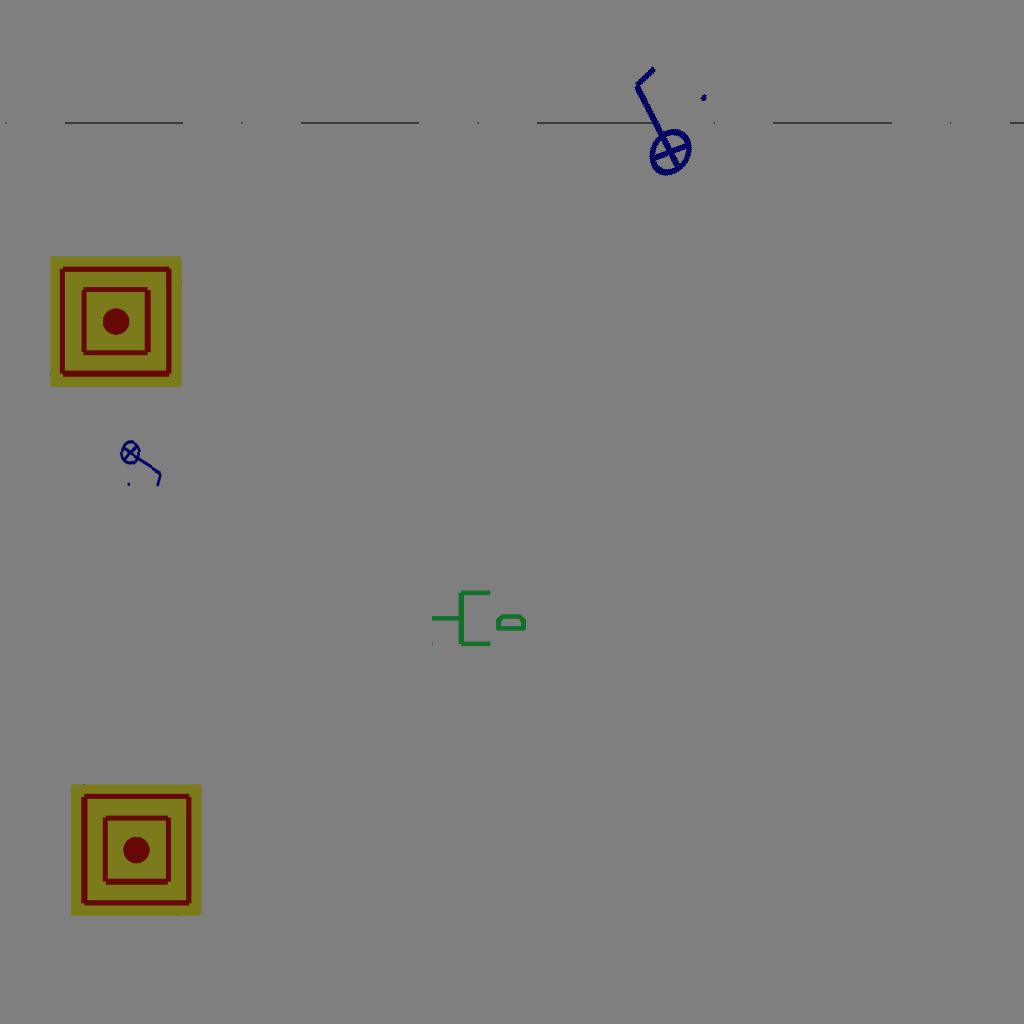Ausschalter_beleuchtet: (587, 51, 727, 197), (117, 432, 169, 492)
Datenanschluss_einfach: (429, 582, 529, 651)
NAM-Nichtautomatischer_Melder: (50, 256, 182, 388), (70, 784, 202, 916)
